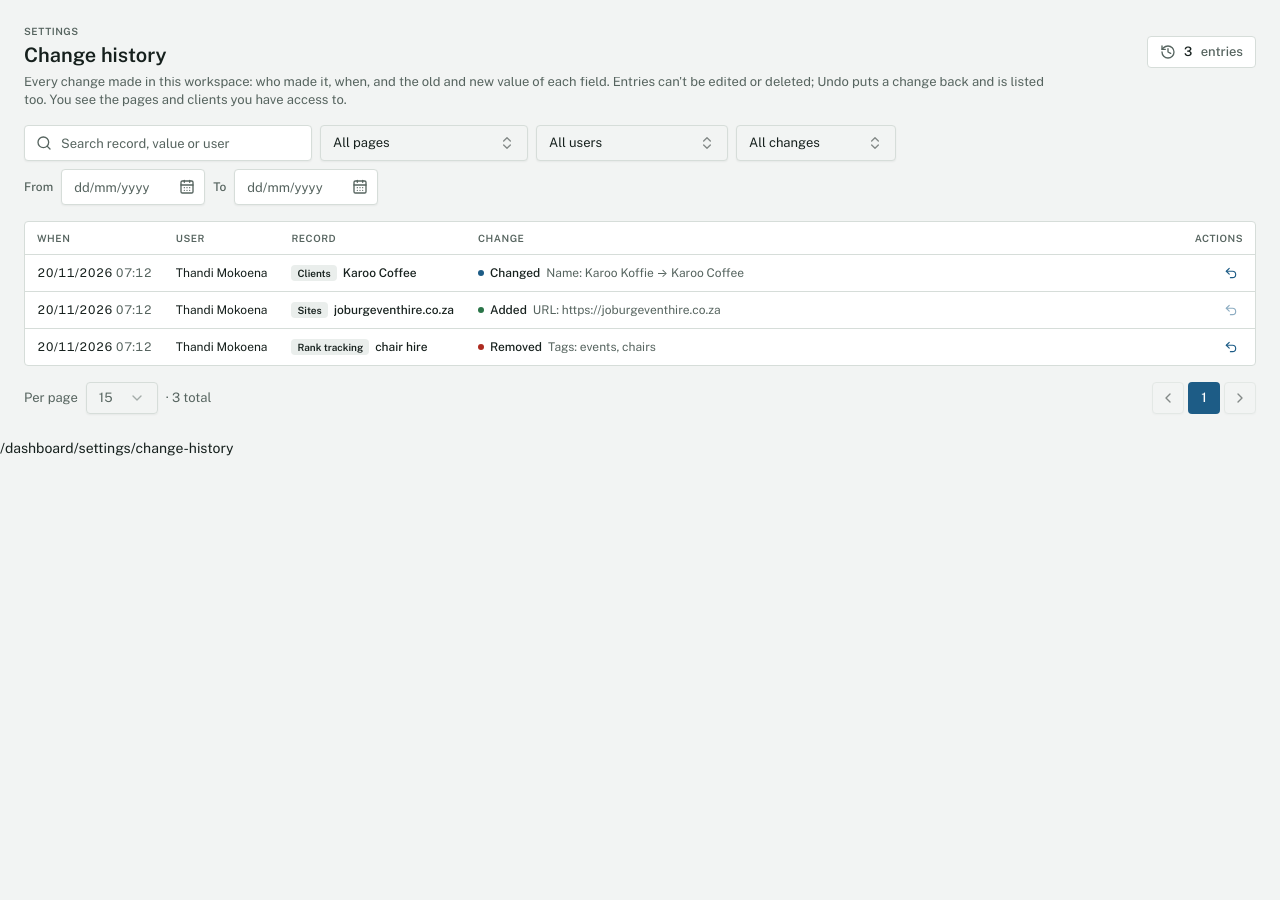
ChangeHistoryPage › undoes a change after confirming, and says so
The image size is (1280, 900).
Later steps or results of the test are not shown.
expect the text "Karoo Coffee" is shown: met, box top-left (343, 264), bottom-right (417, 280)
What coordinates should you click on to do the following:
click the button named "Undo this change to Karoo Coffee"
I would click on:
 (1231, 272)
Its box is top-left (1219, 260), bottom-right (1243, 284).
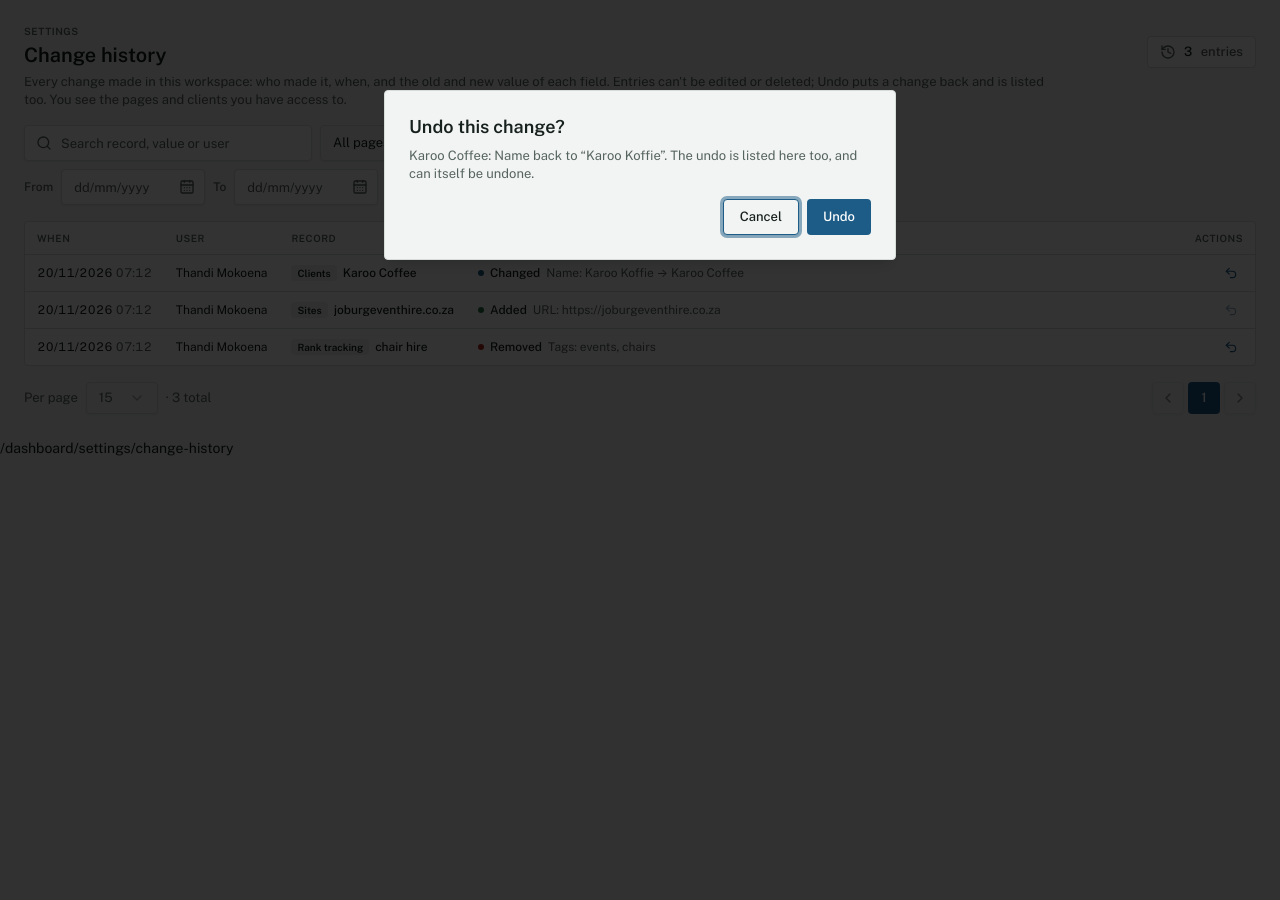
expect the dialog "Undo this change?" shows "Karoo Coffee: Name back to “Karoo Koffie”.": met, box top-left (409, 148), bottom-right (857, 181)
